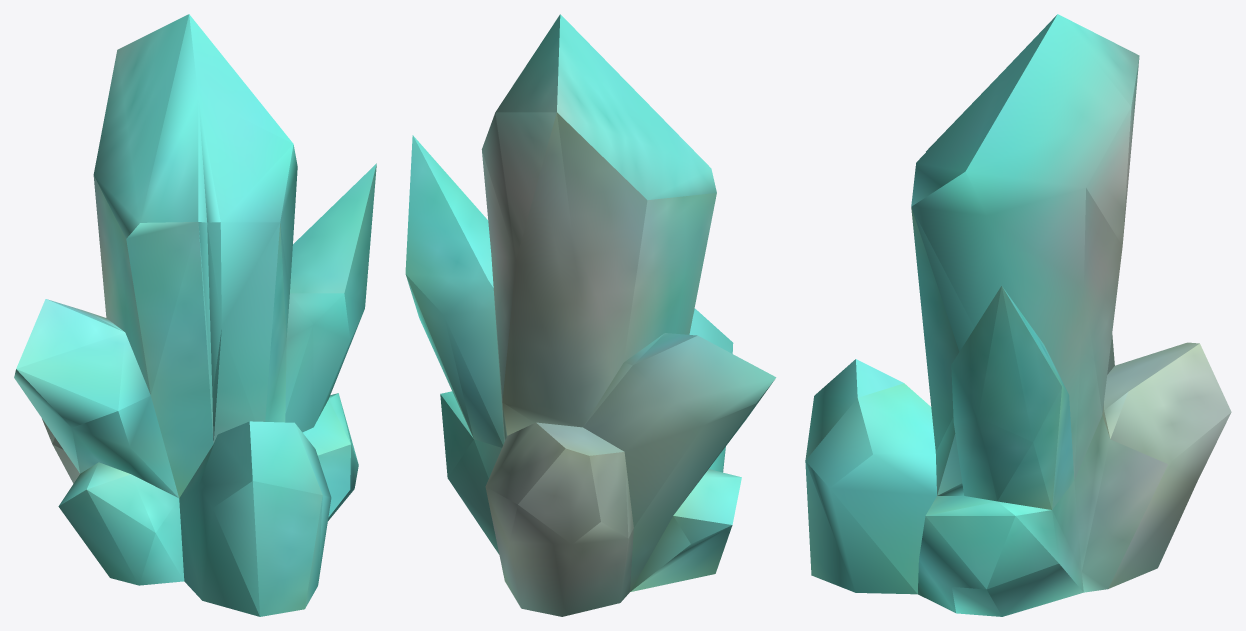
File: esquirla_cristal.glb
The picture shows the model from 3 angles, left to right: view 1: azimuth 30°, elevation 25°; view 2: azimuth 150°, elevation 25°; view 3: azimuth 270°, elevation 25°; orthographic projection. The views are drawn at different scales.
Parts seen in each view (by area): view 1: esquirla_cristal_malla; view 2: esquirla_cristal_malla; view 3: esquirla_cristal_malla.
Boxes of the visible parts, box(x1,y1,x2,y2) form: esquirla_cristal_malla: box(14, 14, 376, 616); esquirla_cristal_malla: box(405, 14, 776, 616); esquirla_cristal_malla: box(805, 14, 1231, 616).
Size of the model in its own units: 0.06 by 0.0846 by 0.0583.
Materials: 1 (1 with a texture image).
